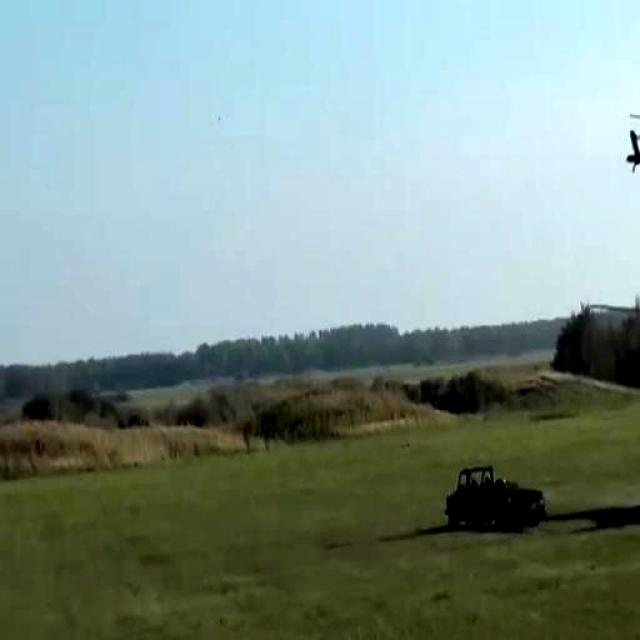drone: (621, 75, 640, 182)
